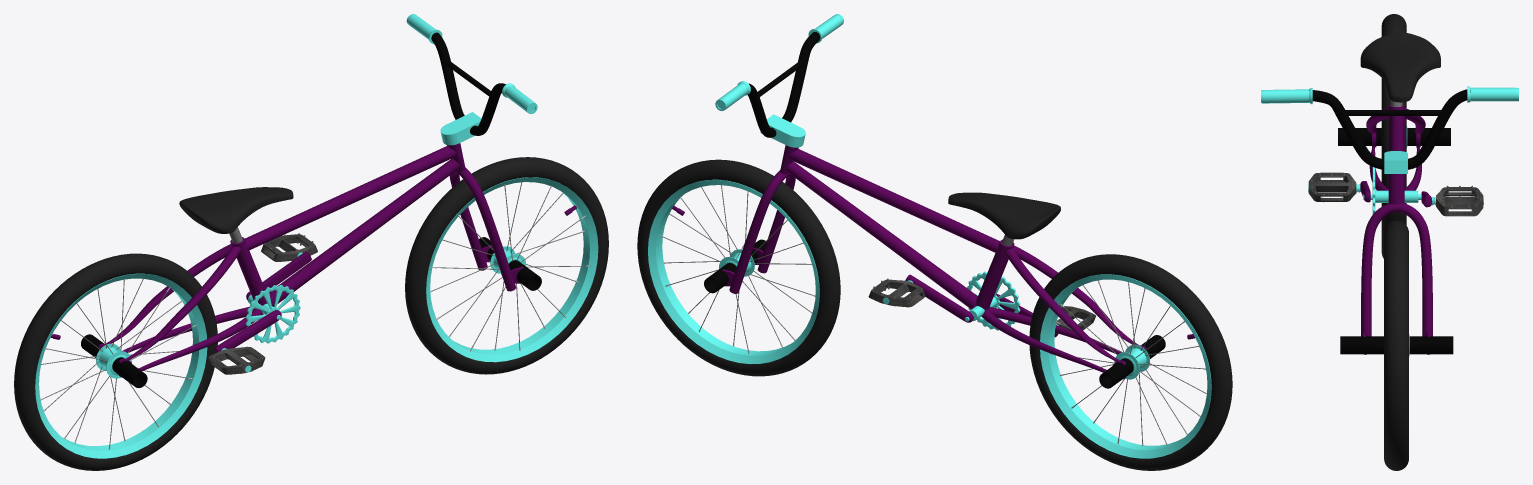
The model's file is bmx.glb.
The picture shows the model from 3 angles, left to right: view 1: azimuth 30°, elevation 25°; view 2: azimuth 150°, elevation 25°; view 3: azimuth 270°, elevation 25°; orthographic projection. The views are drawn at different scales.
Parts seen in each view (by area): view 1: pTorus3 (×2), pPipe6 (×2), pCylinder1, pCylinder3, pCube10, extrudedSurface1_Morado_0, pCylinder89 (×2), pCylinder146, pCylinder12, pCylinder4_Morado_0, pCube5_Carbono_0, pCylinder150_Morado_0 (+8 smaller); view 2: pTorus3 (×2), pPipe6 (×2), pCylinder1, pCylinder3, pCube10, extrudedSurface1_Morado_0, pCylinder89 (×2), pCylinder146, pCylinder150_Morado_0, pCube013_Carbono_0, pCylinder151_Morado_0, pCylinder4_Morado_0 (+6 smaller); view 3: pTorus3 (×2), pCube10, extrudedSurface1_Morado_0, pCylinder89 (×2), pCylinder146, pCube013_Carbono_0, pCube5_Carbono_0, pCylinder148, pCylinder147, pCylinder149, pCylinder144, pCylinder2 (+1 smaller).
Part boxes in pixels (bbox=[...]): pTorus3 (×2): bbox=[14, 157, 608, 470]; pPipe6 (×2): bbox=[35, 177, 598, 458]; pCylinder1: bbox=[269, 158, 459, 306]; pCylinder3: bbox=[245, 146, 456, 250]; pCube10: bbox=[179, 187, 293, 233]; extrudedSurface1_Morado_0: bbox=[449, 167, 523, 291]; pCylinder89 (×2): bbox=[81, 237, 541, 387]; pCylinder146: bbox=[431, 32, 505, 135]; pCylinder12: bbox=[245, 285, 300, 343]; pCylinder4_Morado_0: bbox=[125, 246, 240, 360]; pCube5_Carbono_0: bbox=[208, 347, 265, 374]; pCylinder150_Morado_0: bbox=[105, 244, 232, 344]; pTorus3 (×2): bbox=[637, 159, 1232, 470]; pPipe6 (×2): bbox=[648, 179, 1211, 458]; pCylinder1: bbox=[786, 161, 977, 309]; pCylinder3: bbox=[789, 149, 999, 252]; pCube10: bbox=[948, 192, 1060, 239]; extrudedSurface1_Morado_0: bbox=[722, 170, 795, 293]; pCylinder89 (×2): bbox=[704, 239, 1165, 388]; pCylinder146: bbox=[748, 32, 820, 137]; pCylinder150_Morado_0: bbox=[1005, 248, 1119, 361]; pCube013_Carbono_0: bbox=[868, 279, 925, 307]; pCylinder151_Morado_0: bbox=[981, 310, 1106, 372]; pCylinder4_Morado_0: bbox=[1013, 245, 1139, 345]; pTorus3 (×2): bbox=[1381, 14, 1408, 470]; pCube10: bbox=[1360, 32, 1440, 102]; extrudedSurface1_Morado_0: bbox=[1361, 203, 1432, 354]; pCylinder89 (×2): bbox=[1338, 128, 1453, 354]; pCylinder146: bbox=[1309, 89, 1470, 169]; pCube013_Carbono_0: bbox=[1436, 187, 1483, 216]; pCube5_Carbono_0: bbox=[1308, 172, 1356, 201]; pCylinder148: bbox=[1467, 86, 1518, 102]; pCylinder147: bbox=[1261, 88, 1312, 104]; pCylinder149: bbox=[1345, 110, 1441, 115]; pCylinder144: bbox=[1384, 151, 1407, 173]; pCylinder2: bbox=[1388, 174, 1404, 204].
Bounding box in the file's own units: 5.01 × 2.63 × 1.75.
7 materials, 1 textured.
